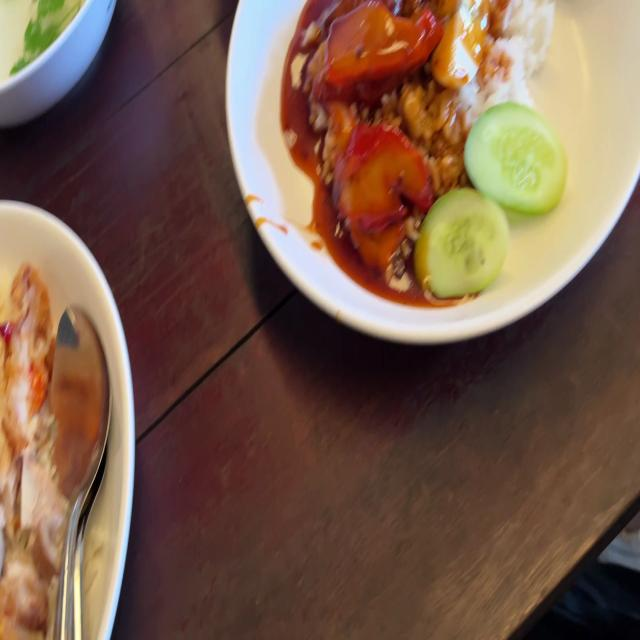chicken_rice: (0, 453, 69, 640)
red_pork_and_crispy_pork: (432, 0, 488, 79)
